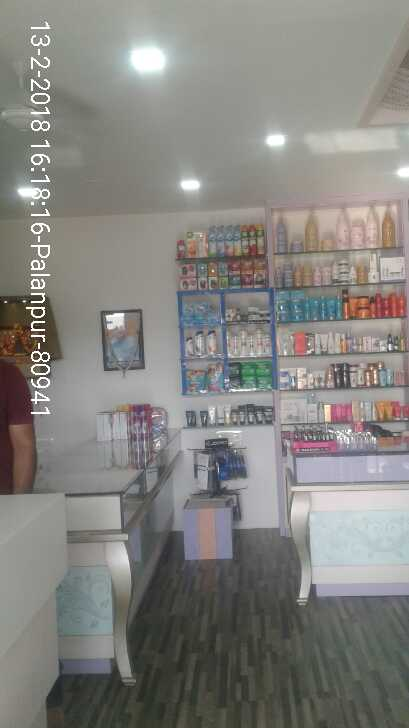ambipureVesus: (224, 224, 233, 255), (216, 224, 224, 258), (208, 226, 216, 258), (241, 224, 249, 255), (234, 224, 241, 256), (249, 224, 256, 255)
venus: (206, 302, 219, 319), (183, 301, 195, 319), (195, 301, 206, 319)
